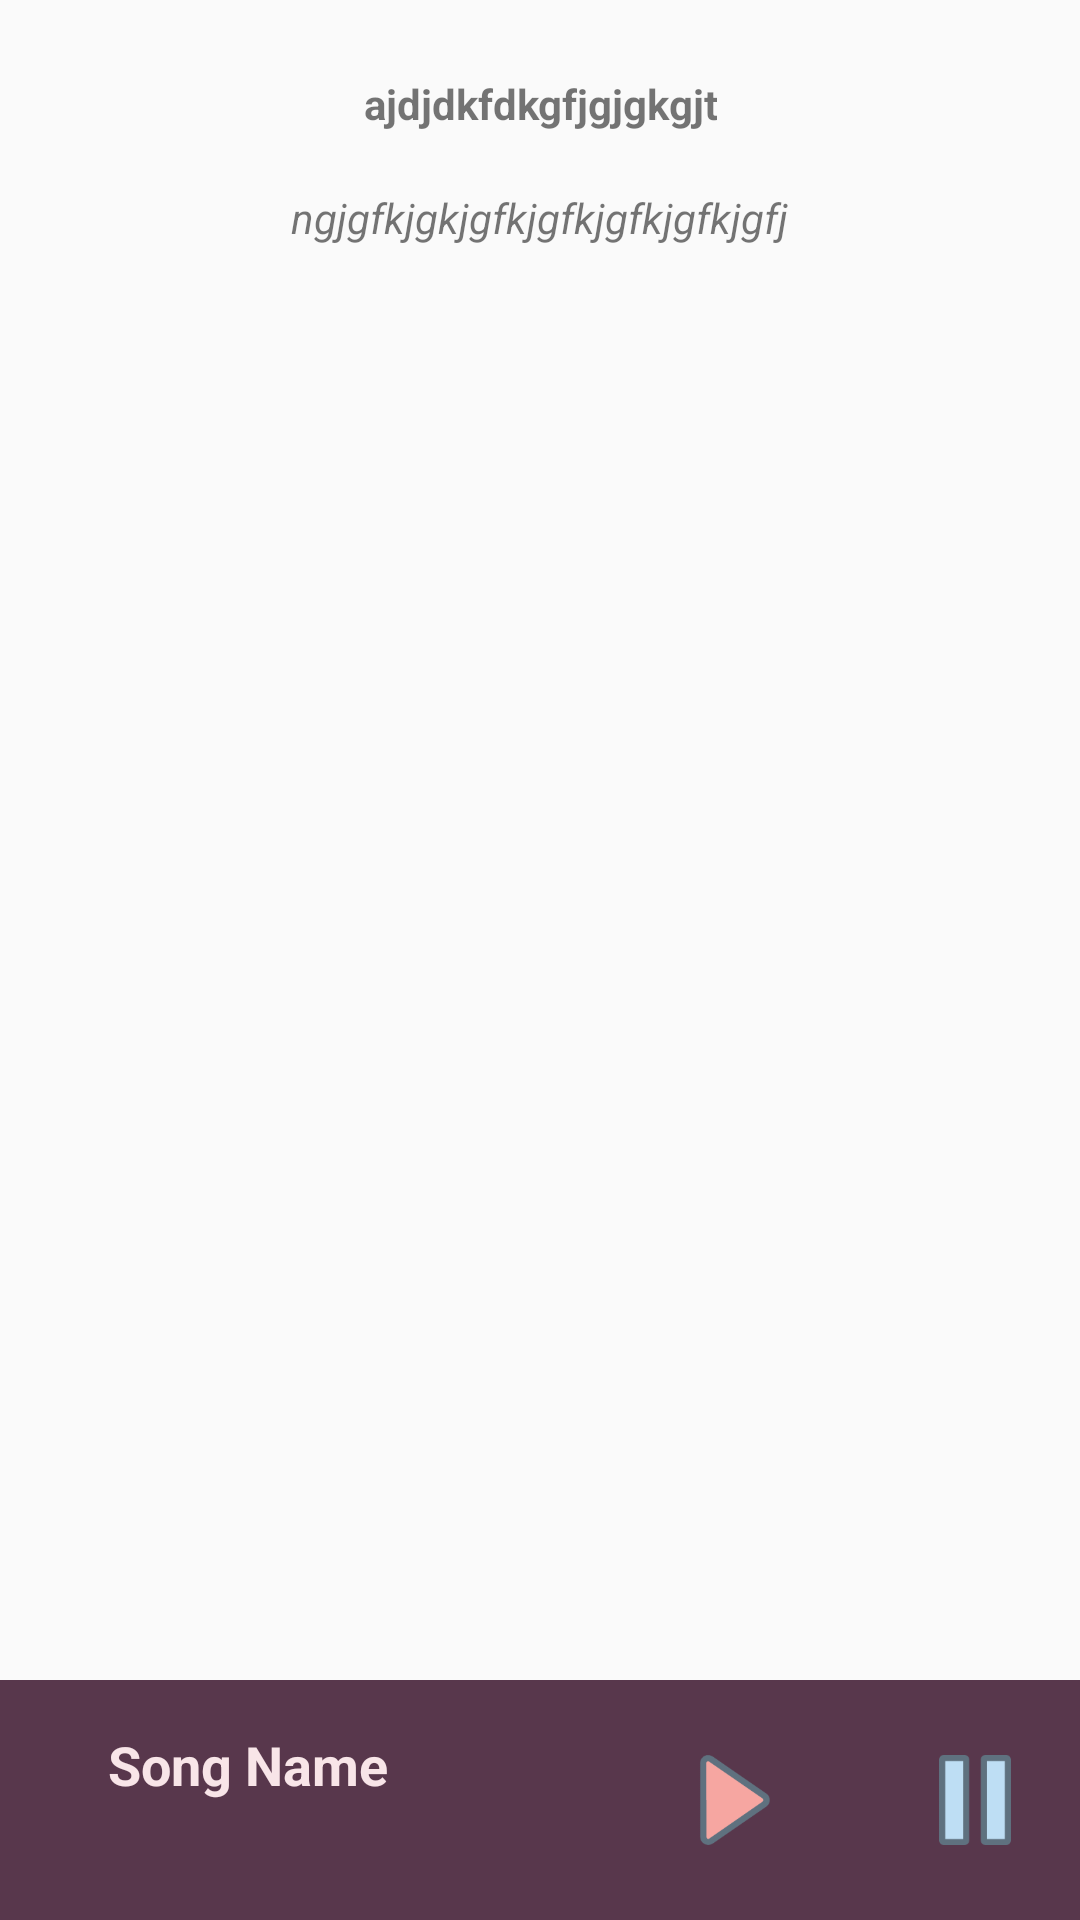

Point at icon controls on the screen. Image size 1080 × 1920, points as (x=x, y=y).
pausebuttontest: (x=975, y=1800)
playtestone: (x=735, y=1800)
